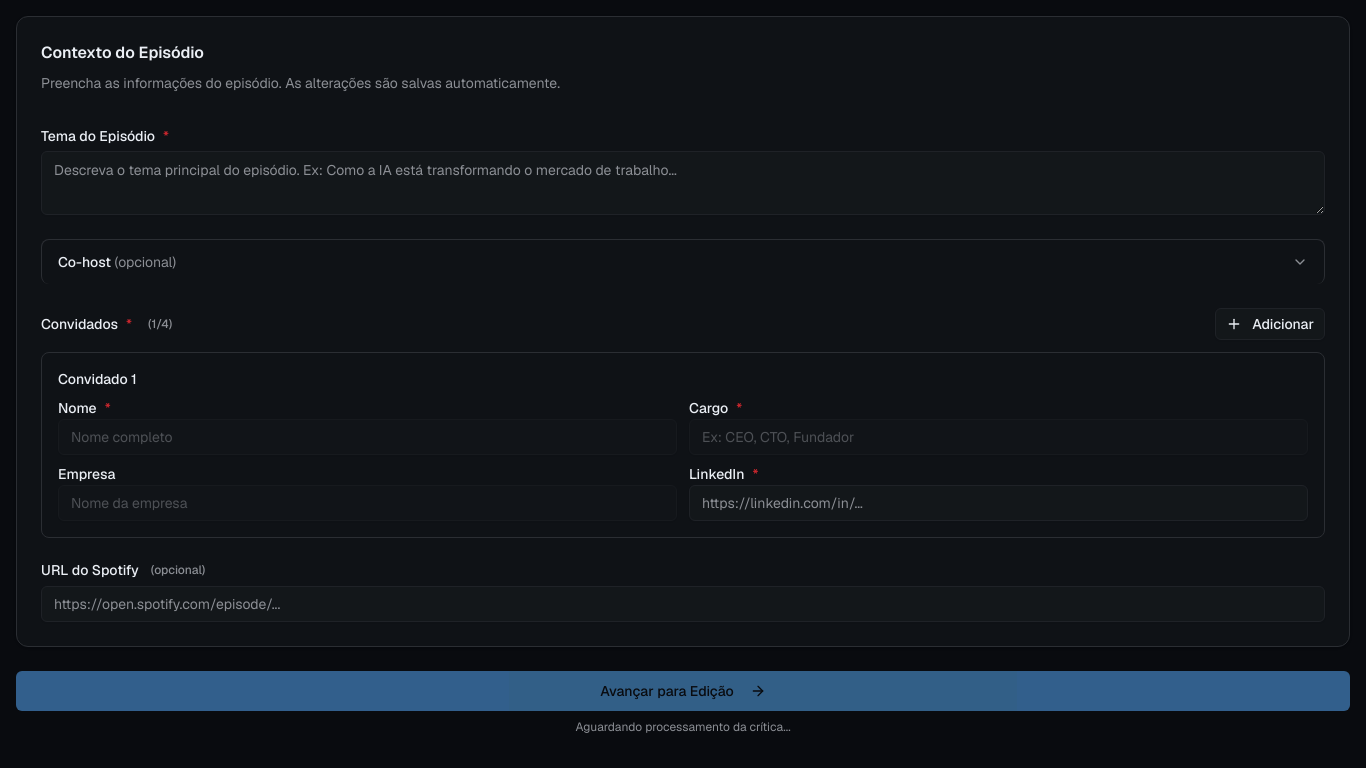
it: Phase1Critique › Scrape-driven field unlock (Story 24.7) › unlocks and fills name/role/company after successful scrape (auto-fill from response)
# Fill required fields plus the LinkedIn URL to trigger scrape
Replace the text in the text box labelled "Tema do Episódio *" with "tema qualquer": coordinates (683, 183) [41,151,1325,215]
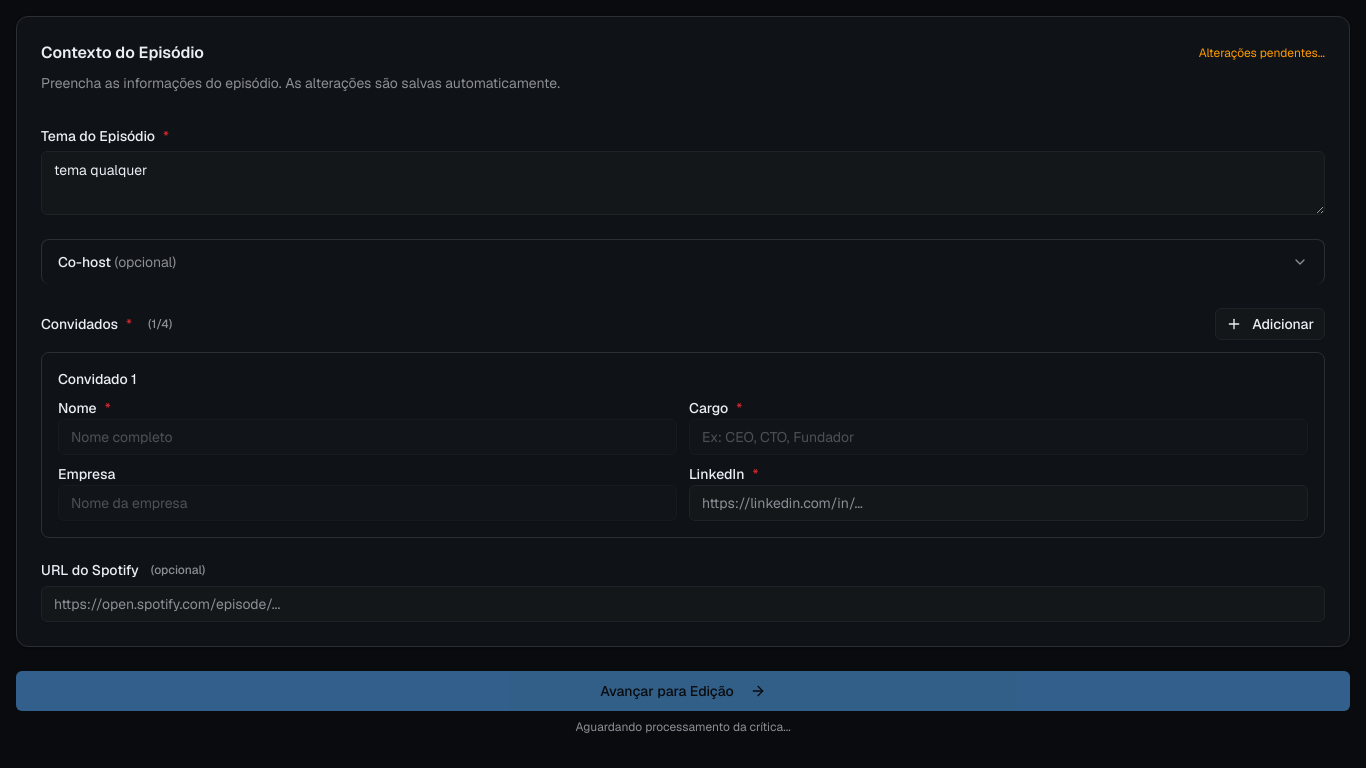
In the field labelled "LinkedIn *": coordinates (998, 503) [689,485,1308,521], type "https://www.linkedin.com/in/foo"
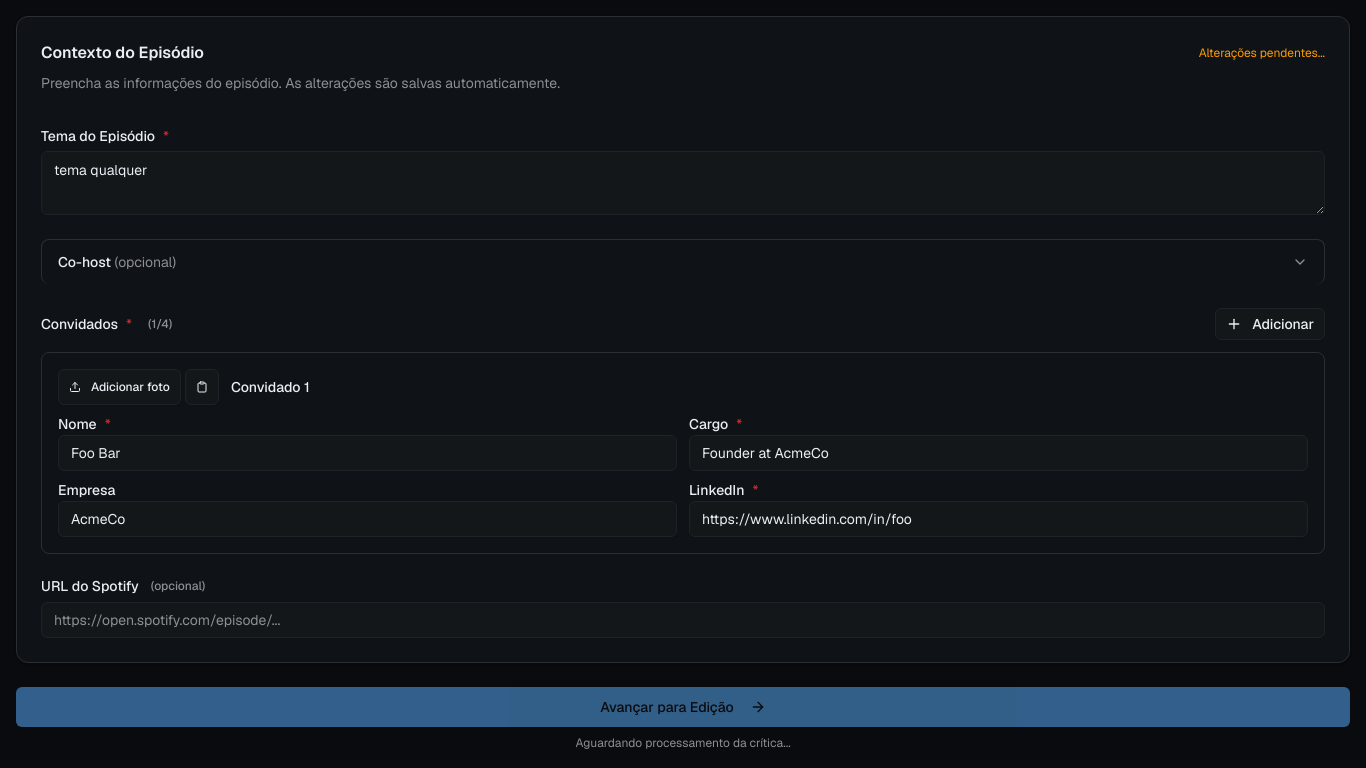
Expected: the field labelled "Nome *" holds "Foo Bar", [58,435,677,471]
Expected: the field labelled "Nome *" is enabled, [58,435,677,471]
Expected: the field labelled "Cargo *" holds "Founder at AcmeCo", [689,435,1308,471]
